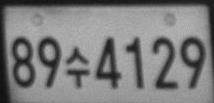1: (124, 36, 152, 89)
2: (152, 36, 178, 90)
4: (93, 36, 122, 89)
8: (11, 36, 36, 88)
9: (179, 36, 206, 89), (36, 36, 62, 87)
수: (66, 46, 90, 88)
